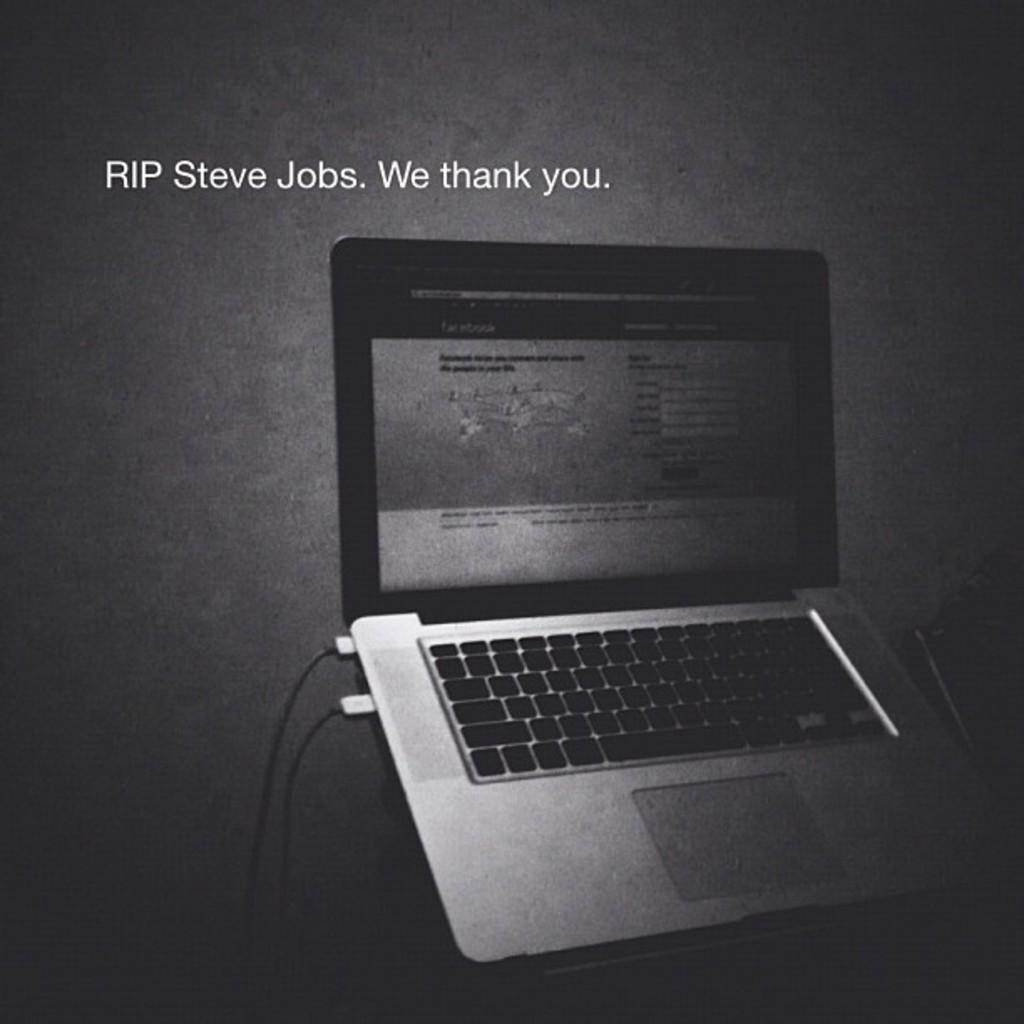Computer-keyboard: (423, 612, 893, 780)
Laptop: (310, 216, 940, 977)
